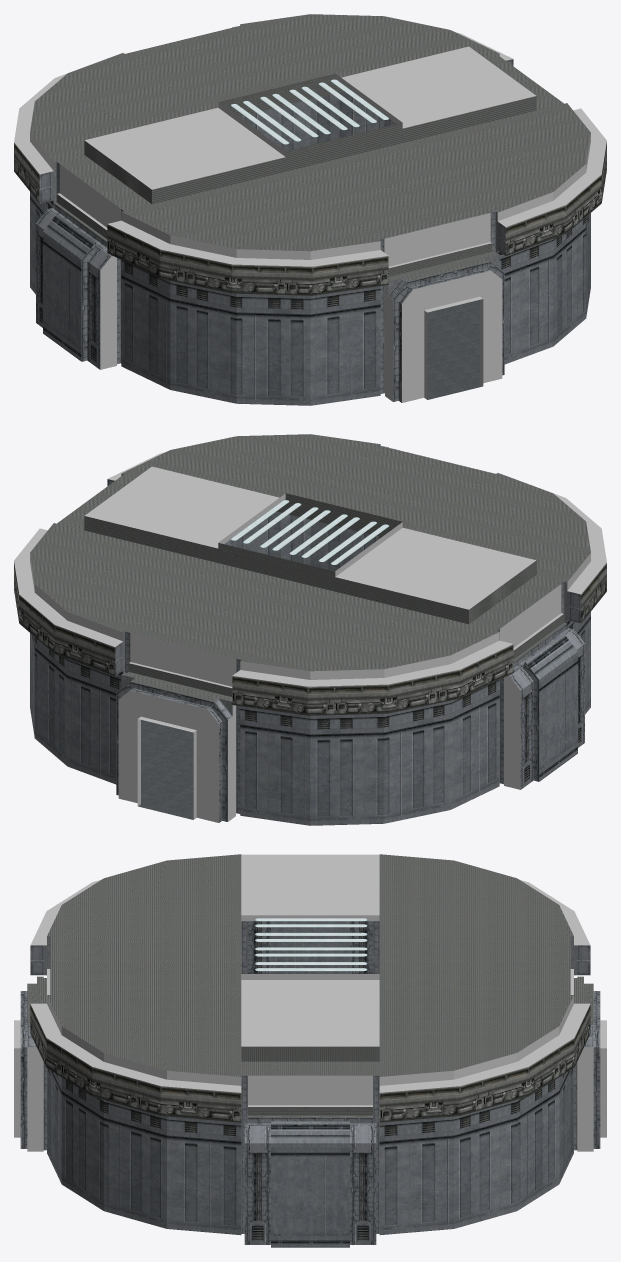
File: poi_all_impl_bunker_warren_s01_r11_smallroom11_mesh_r11.fbx
The picture shows the model from 3 angles, top to bottom: view 1: azimuth 30°, elevation 25°; view 2: azimuth 150°, elevation 25°; view 3: azimuth 270°, elevation 25°; orthographic projection. The views are drawn at different scales.
Visible parts, largest first — view 1: mesh_node; view 2: mesh_node; view 3: mesh_node.
Part boxes in pixels (bbox=[...]): mesh_node: bbox=[14, 14, 606, 405]; mesh_node: bbox=[14, 434, 606, 825]; mesh_node: bbox=[14, 854, 606, 1247].
Bounding box in the file's own units: 17.8 × 6 × 18.
